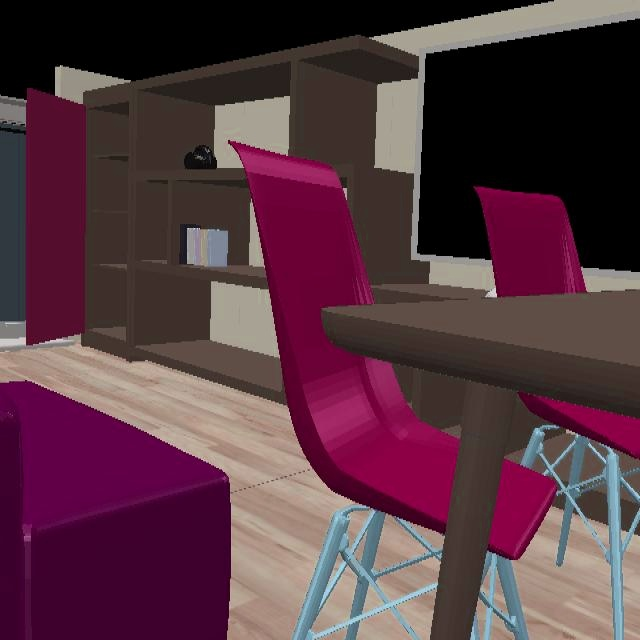bookshelf: (84, 35, 407, 403)
chair: (231, 143, 461, 535), (475, 185, 589, 299), (520, 395, 640, 461), (488, 460, 559, 563)
monitor: (420, 17, 640, 271)
sofa: (0, 381, 231, 640)
table: (321, 288, 640, 640)
